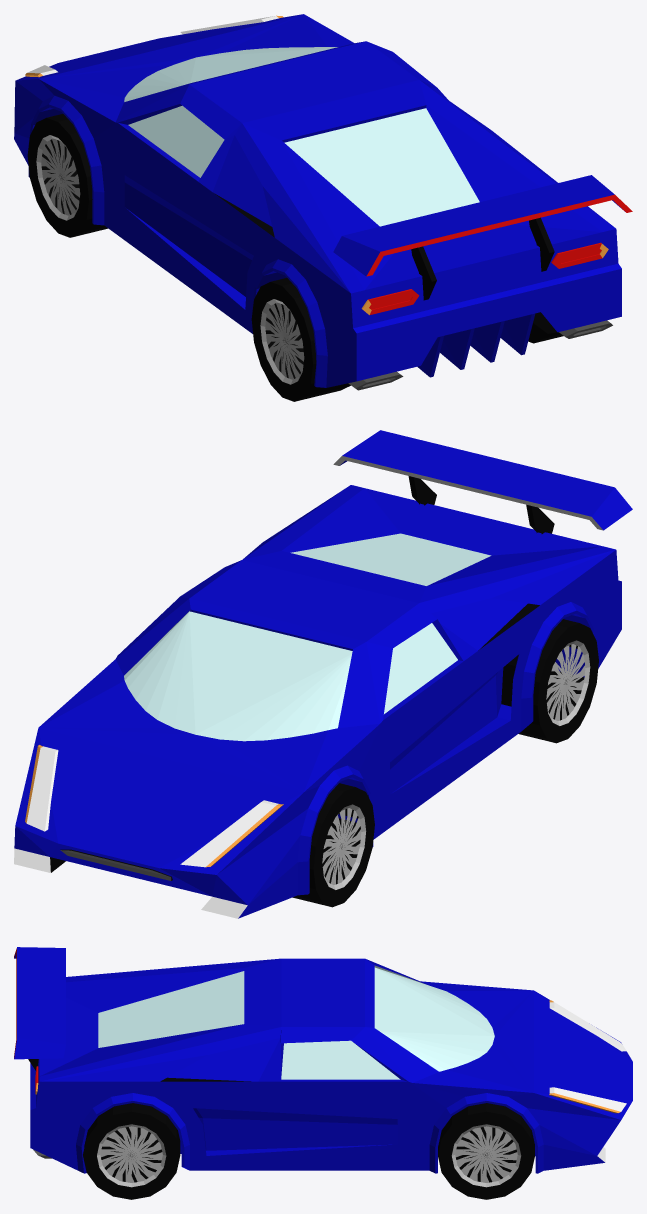
Rendered from low_poly_car.glb.
3 views of the same model, one above another, from view 1: azimuth 30°, elevation 25°; view 2: azimuth 150°, elevation 25°; view 3: azimuth 270°, elevation 25° (orthographic). The views are drawn at different scales.
Visible parts, largest first — view 1: car.026, TireRD15, TireFD15; view 2: car.026, TireRD15, TireFD15; view 3: car.026, TireRP15, TireFP15.
Boxes of the visible parts, x1=… form: car.026: x1=14, y1=14, x2=632, y2=390; TireRD15: x1=251, y1=278, x2=350, y2=401; TireFD15: x1=27, y1=114, x2=107, y2=237; car.026: x1=14, y1=430, x2=632, y2=918; TireRD15: x1=518, y1=619, x2=598, y2=743; TireFD15: x1=292, y1=783, x2=374, y2=907; car.026: x1=14, y1=947, x2=632, y2=1173; TireRP15: x1=83, y1=1103, x2=180, y2=1199; TireFP15: x1=438, y1=1103, x2=534, y2=1199.
Size of the model in its own units: 1.47 by 0.9461 by 3.49.
